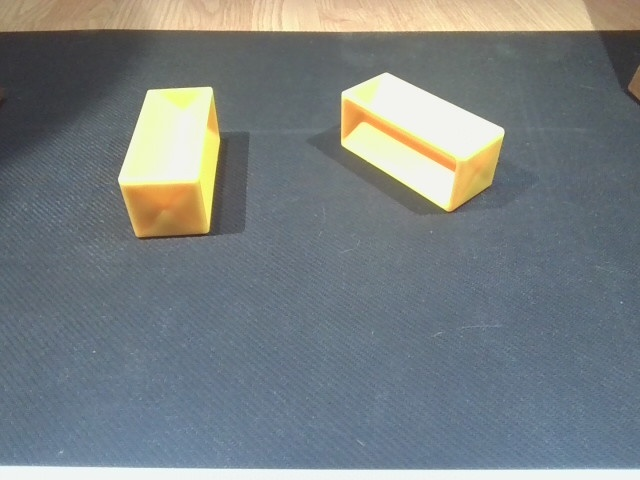YellowSample: (336, 70, 513, 227), (114, 85, 226, 239)
